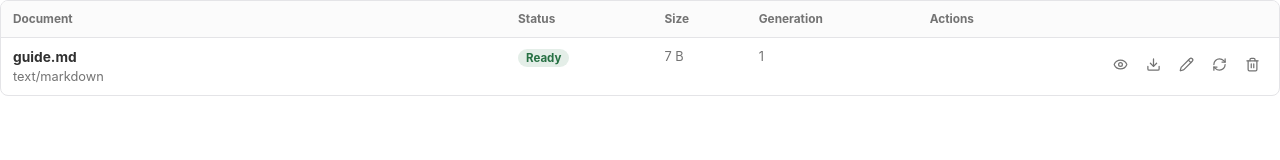
Test: KnowledgeDocumentTable › keeps a row visible and reports resource_in_use on delete
Click the button named "delete guide.md".
click(1252, 64)  # box 1237,49 -> 1267,79
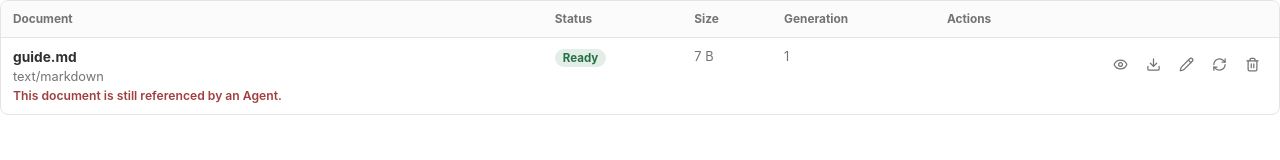
Expected: the button "guide.md" is shown, 13,49 -> 77,65
Expected: the message shows "still referenced by an Agent", 13,88 -> 282,103
